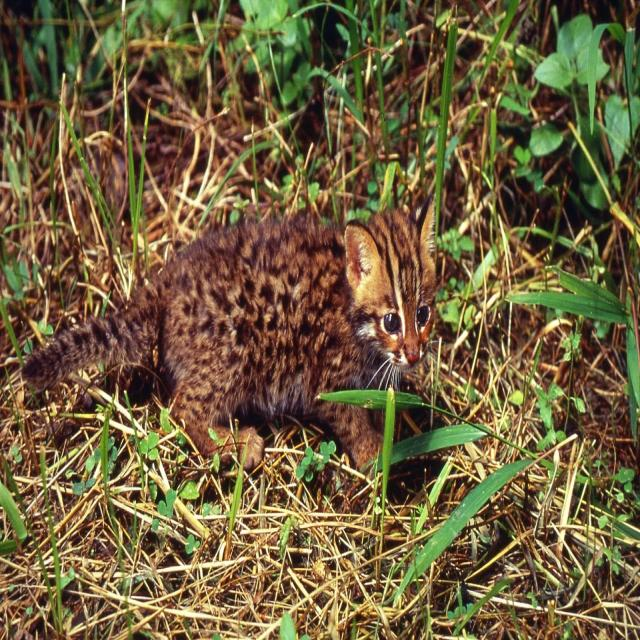leopard: (103, 225, 436, 452)
